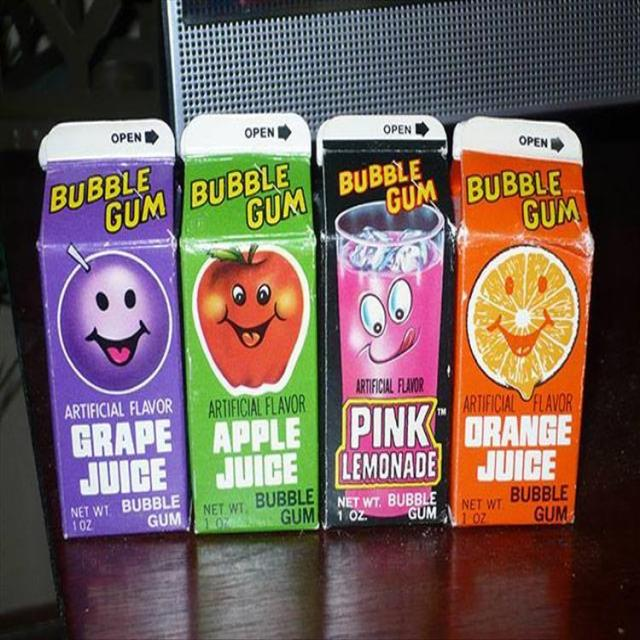drink carton: (33, 118, 192, 538), (450, 117, 599, 526), (179, 112, 319, 534), (317, 115, 453, 530)
